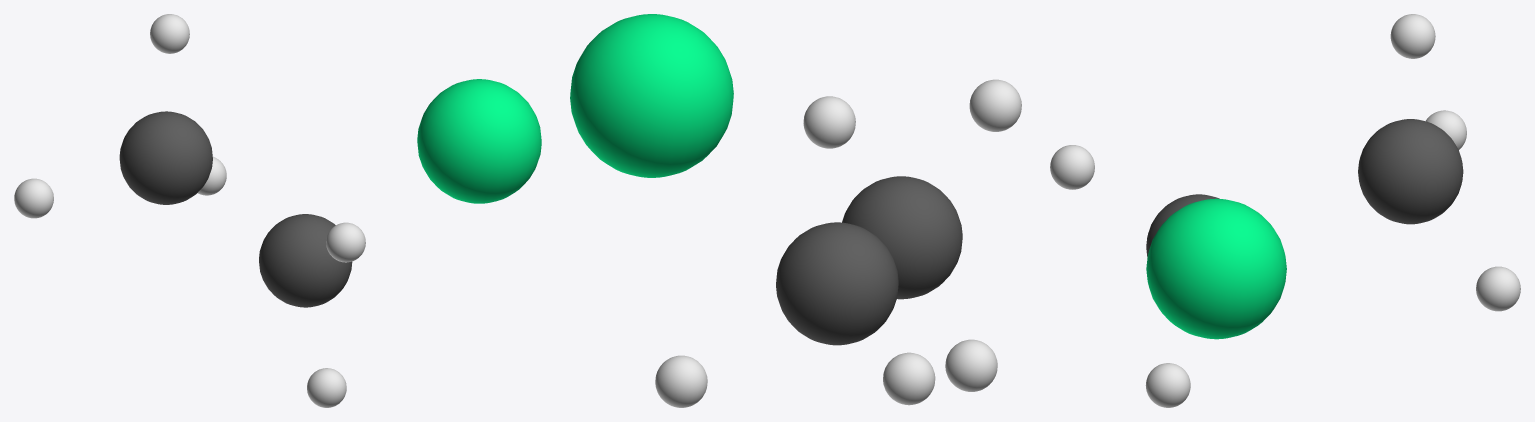
File: Chloroenthane_TS_10K.fbx
3 views of the same model, side by side, from view 1: azimuth 30°, elevation 25°; view 2: azimuth 150°, elevation 25°; view 3: azimuth 270°, elevation 25° (orthographic). The views are drawn at different scales.
Parts seen in each view (by area): view 1: Cl08, C03, C01, H02, H05, H06, H07, H04; view 2: Cl08, C03, C01, H07, H02, H04, H06, H05; view 3: Cl08, C03, H04, H07, H02, H06, H05, C01.
Part boxes in pixels (x1,y1,x2,y2): Cl08: [417, 79, 541, 203]; C03: [119, 111, 212, 204]; C01: [259, 214, 352, 307]; H02: [307, 368, 346, 407]; H05: [14, 178, 53, 218]; H06: [326, 222, 365, 262]; H07: [150, 14, 189, 53]; H04: [197, 156, 226, 195]; Cl08: [570, 14, 733, 177]; C03: [776, 222, 898, 345]; C01: [842, 176, 962, 299]; H07: [803, 96, 855, 148]; H02: [883, 352, 935, 405]; H04: [655, 355, 707, 407]; H06: [969, 79, 1021, 131]; H05: [945, 339, 997, 391]; Cl08: [1146, 198, 1286, 339]; C03: [1358, 119, 1463, 224]; H04: [1476, 266, 1520, 311]; H07: [1390, 14, 1435, 58]; H02: [1145, 363, 1190, 407]; H06: [1050, 145, 1094, 189]; H05: [1426, 110, 1466, 149]; C01: [1146, 194, 1219, 257].
Bounding box in the file's own units: 384 × 285 × 335.
